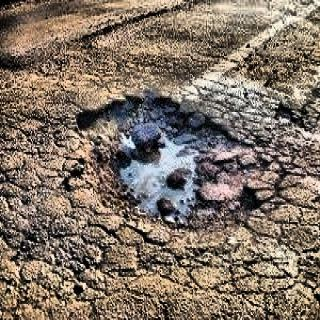alligator-crack: (200, 67, 318, 320), (6, 114, 142, 318)
pothole: (70, 87, 276, 233)
